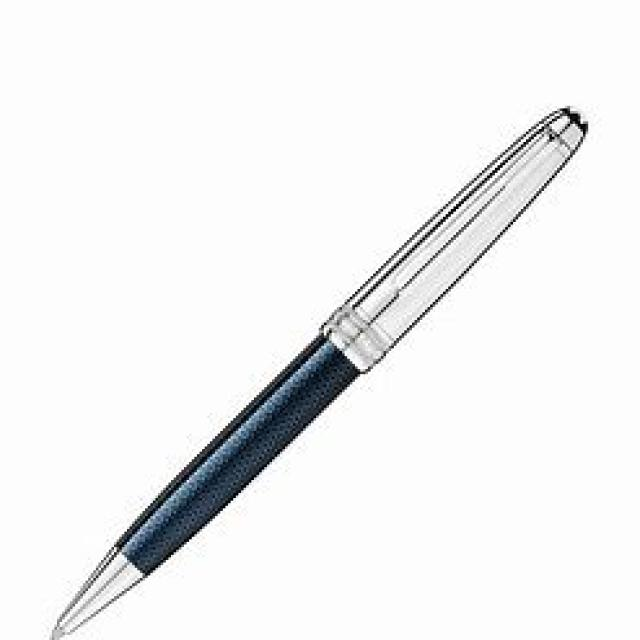pen: (47, 93, 590, 640)
